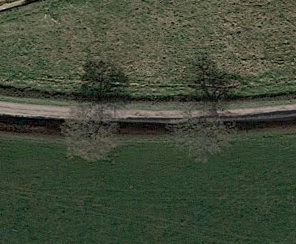tree: (61, 103, 127, 173)
